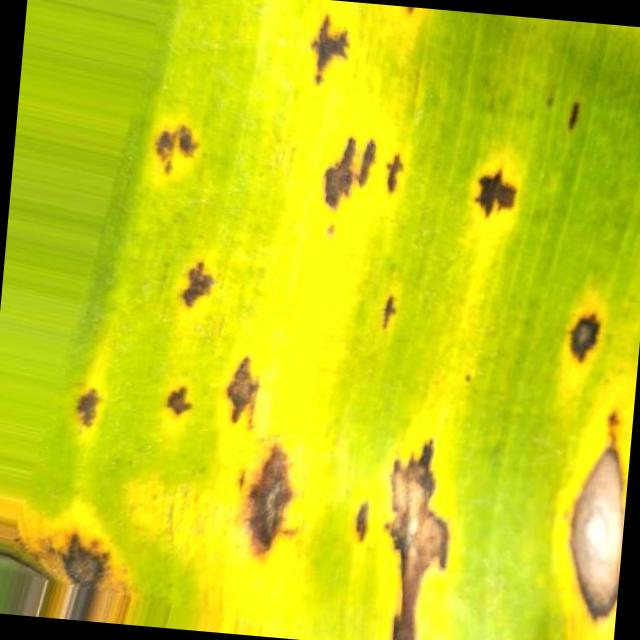Banana_Yellow_Sigatoka: (230, 416, 629, 640), (282, 18, 594, 242), (0, 423, 150, 625)
